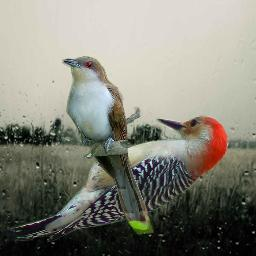Cuckoo: (62, 56, 154, 235)
Woodpecker: (7, 105, 232, 245)
